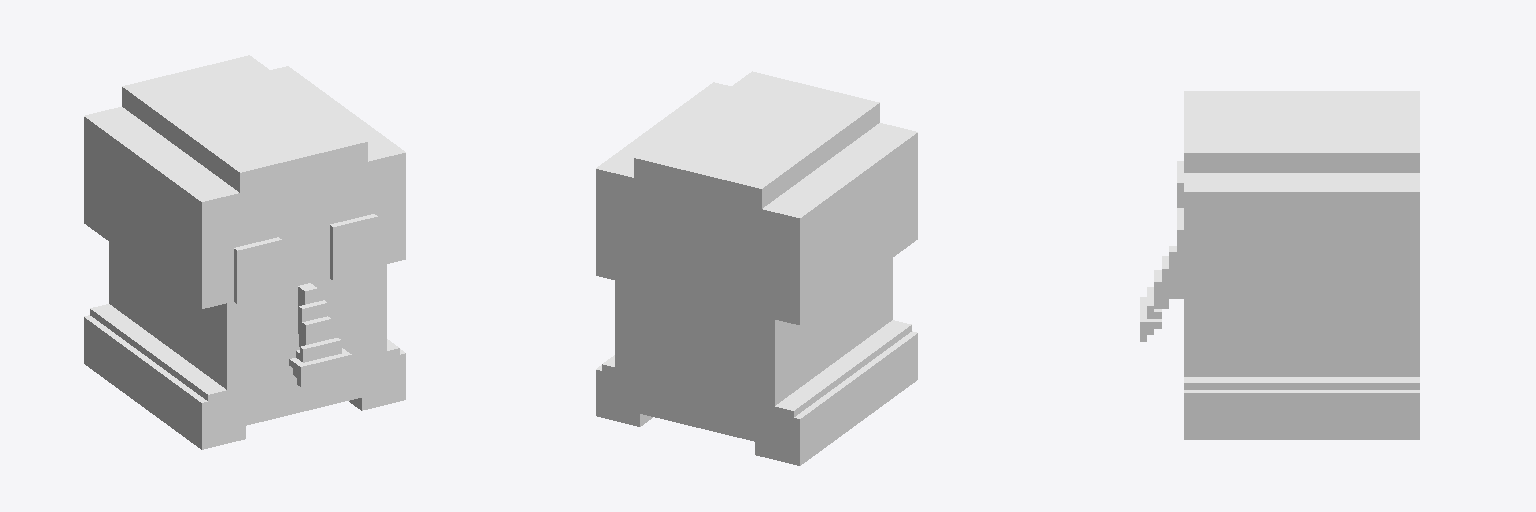
The model's file is npc.obj.
The picture shows the model from 3 angles: view 1: azimuth 30°, elevation 25°; view 2: azimuth 150°, elevation 25°; view 3: azimuth 270°, elevation 25°; orthographic projection.
Visible parts, largest first — view 1: object 1; view 2: object 1; view 3: object 1.
Boxes of the visible parts, x1,y1,x2,y2 form: object 1: [84, 55, 405, 449]; object 1: [596, 71, 917, 465]; object 1: [1140, 91, 1419, 439].
Size of the model in its own units: 3.2 by 4 by 3.8.